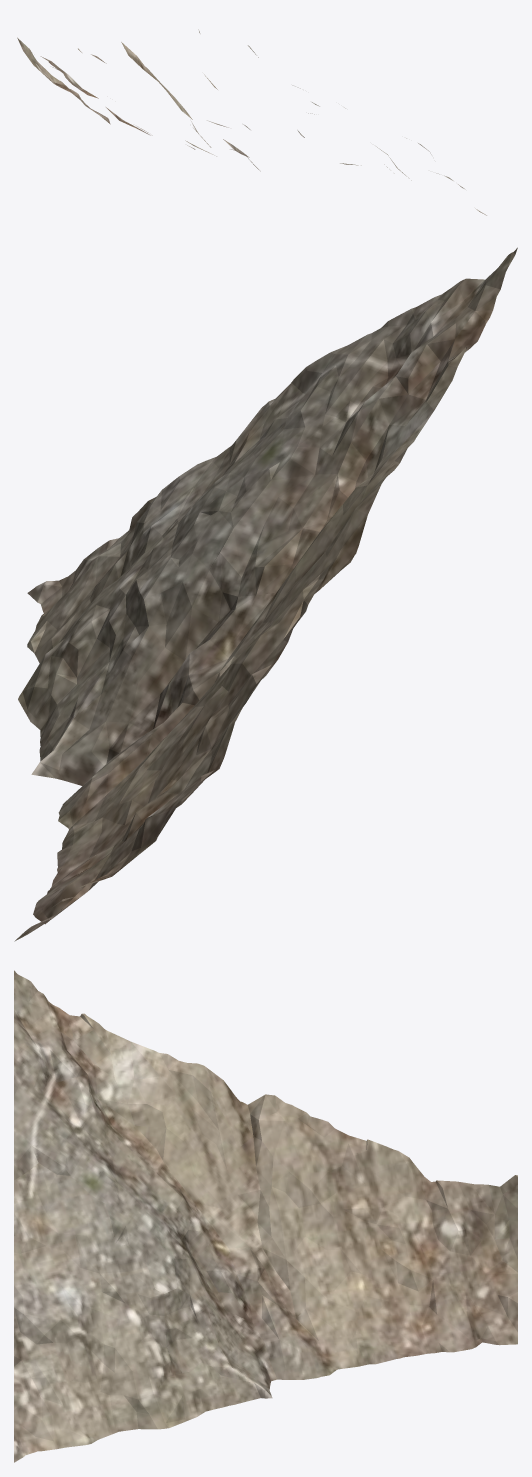
The picture shows the model from 3 angles, top to bottom: view 1: azimuth 30°, elevation 25°; view 2: azimuth 150°, elevation 25°; view 3: azimuth 270°, elevation 25°; orthographic projection. The views are drawn at different scales.
Bounding box in the file's own units: 2.32 × 2.1 × 2.95.
2 materials, 2 textured.
